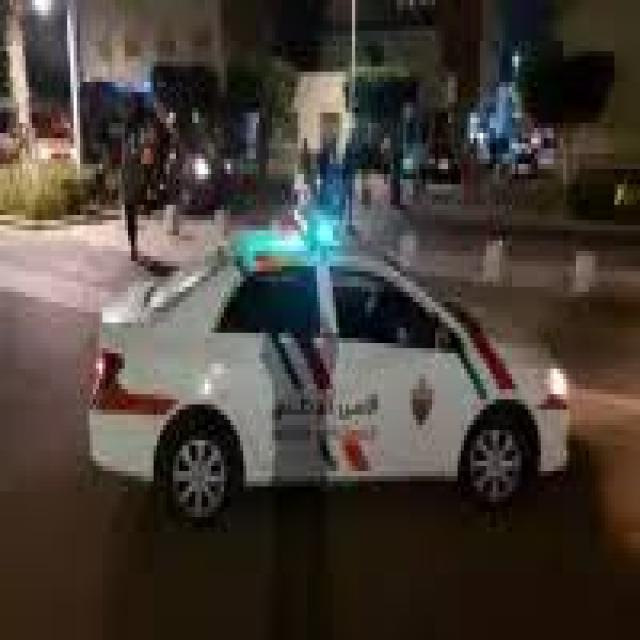Police car: (80, 197, 576, 545)
